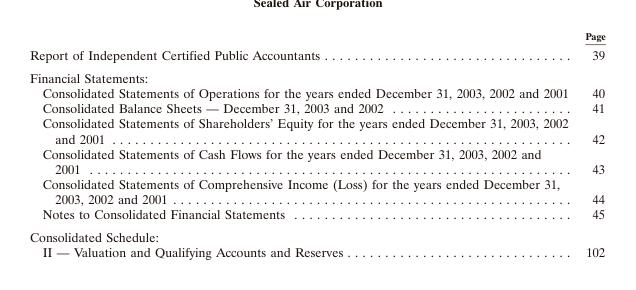table: (29, 29, 604, 259)
table column: (29, 29, 576, 259), (576, 29, 604, 259)
table column header: (29, 29, 604, 44)
table projected row header: (29, 66, 604, 85), (29, 225, 604, 244)
table row: (29, 175, 604, 206), (29, 115, 604, 145), (29, 145, 604, 175), (29, 44, 604, 66), (29, 66, 604, 85), (29, 206, 604, 225), (29, 225, 604, 244), (29, 29, 604, 44), (29, 85, 604, 100), (29, 100, 604, 115), (29, 244, 604, 259)
